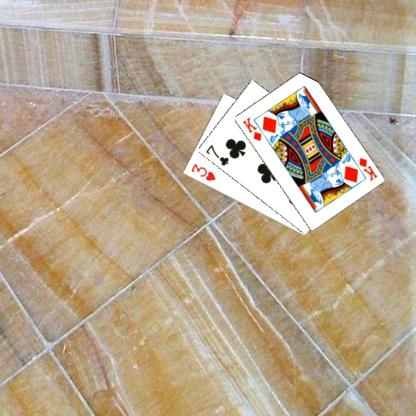3H: (188, 160, 216, 182)
7C: (202, 142, 230, 167)
KD: (239, 115, 262, 142), (356, 155, 378, 182)
